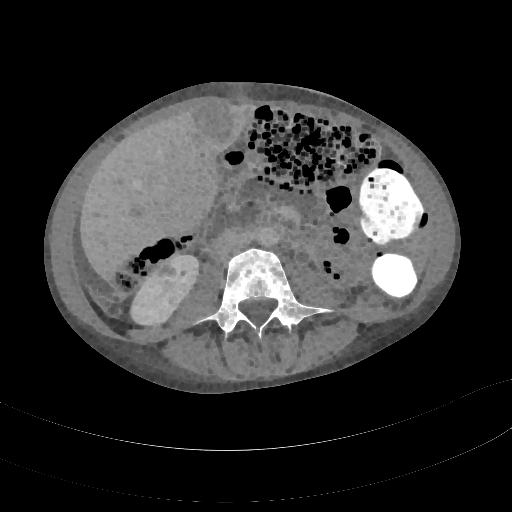Lesion: (150, 263, 181, 277)
